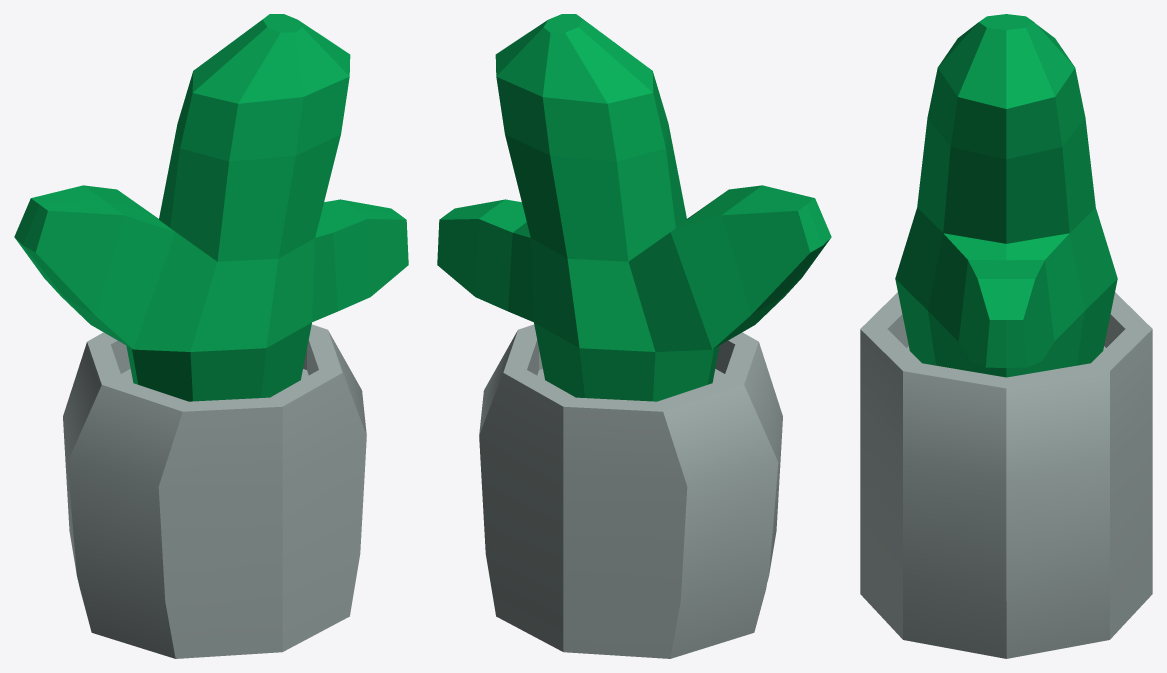
Rendered from CactusPlant.fbx.
3 views of the same model, side by side, from view 1: azimuth 30°, elevation 25°; view 2: azimuth 150°, elevation 25°; view 3: azimuth 270°, elevation 25° (orthographic). The views are drawn at different scales.
Visible parts, largest first — view 1: CactusPlant; view 2: CactusPlant; view 3: CactusPlant.
Boxes of the visible parts, x1,y1,x2,y2 form: CactusPlant: [14, 14, 408, 658]; CactusPlant: [437, 14, 831, 658]; CactusPlant: [860, 14, 1152, 658].
Bounding box in the file's own units: 3.22 × 4.59 × 2.
